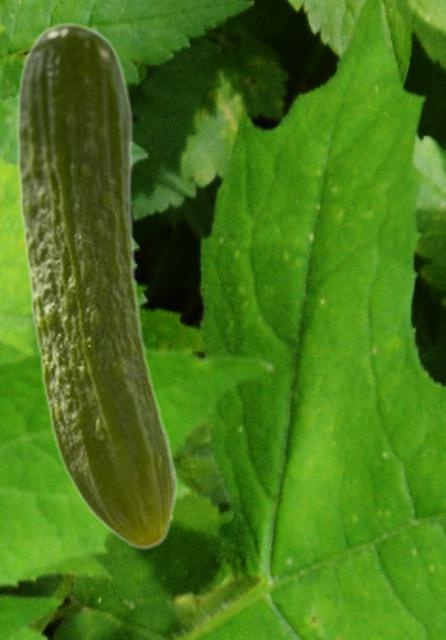cucumber: (15, 21, 177, 550)
